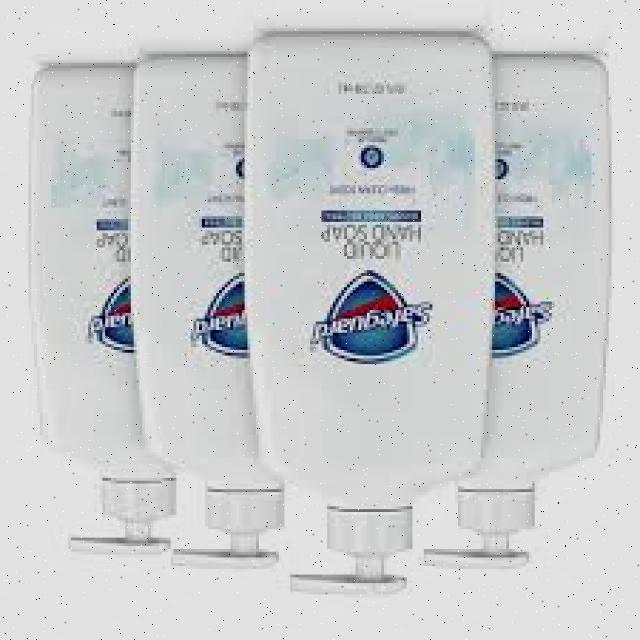liquid soap: (240, 37, 502, 600), (420, 53, 622, 577), (126, 41, 290, 583), (26, 61, 175, 563)
